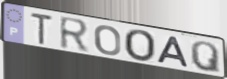A: (155, 35, 191, 70)
O: (123, 29, 158, 65), (93, 25, 123, 57)
Q: (189, 40, 223, 75)
R: (58, 15, 91, 55)
T: (29, 11, 55, 46)
